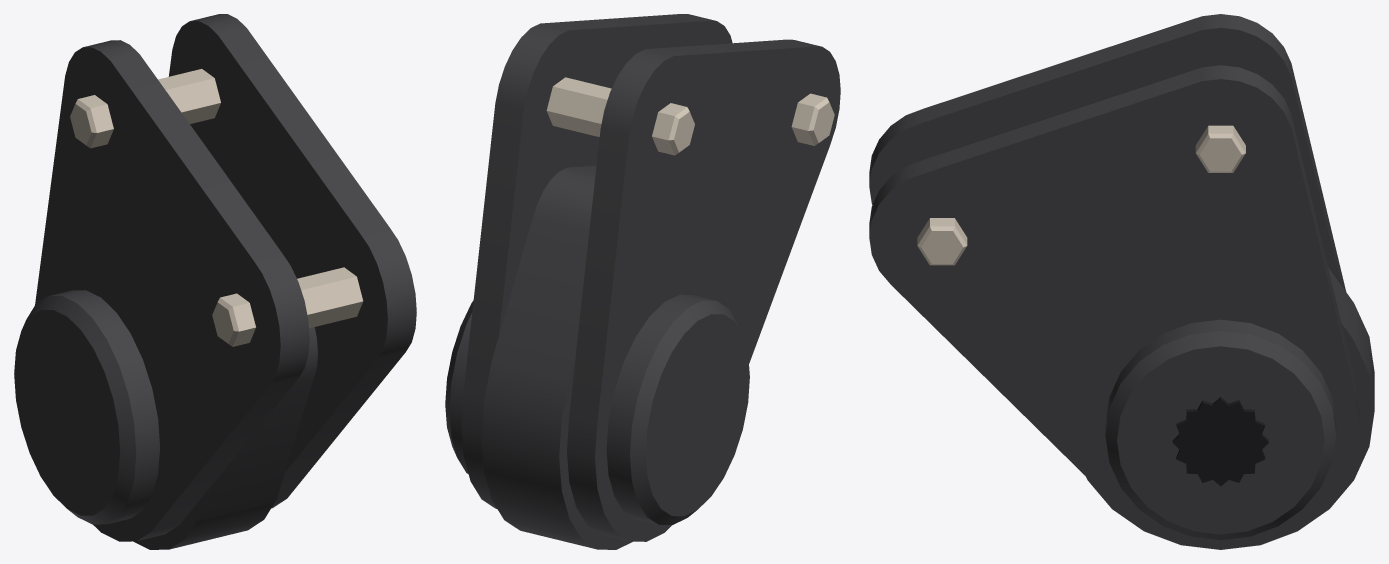
File: SM_Susp_FR_Rocker.fbx
3 renders of one model, left to right at view 1: azimuth 30°, elevation 25°; view 2: azimuth 150°, elevation 25°; view 3: azimuth 270°, elevation 25°, orthographic. The views are drawn at different scales.
Visible parts, largest first — view 1: Export_Susp_FR_Rocker; view 2: Export_Susp_FR_Rocker; view 3: Export_Susp_FR_Rocker.
Part boxes in pixels (x1,y1,x2,y2): Export_Susp_FR_Rocker: (14,14,416,549); Export_Susp_FR_Rocker: (445,14,840,549); Export_Susp_FR_Rocker: (869,14,1374,549).
Bounding box in the file's own units: 0.1314 × 0.0615 × 0.139.
